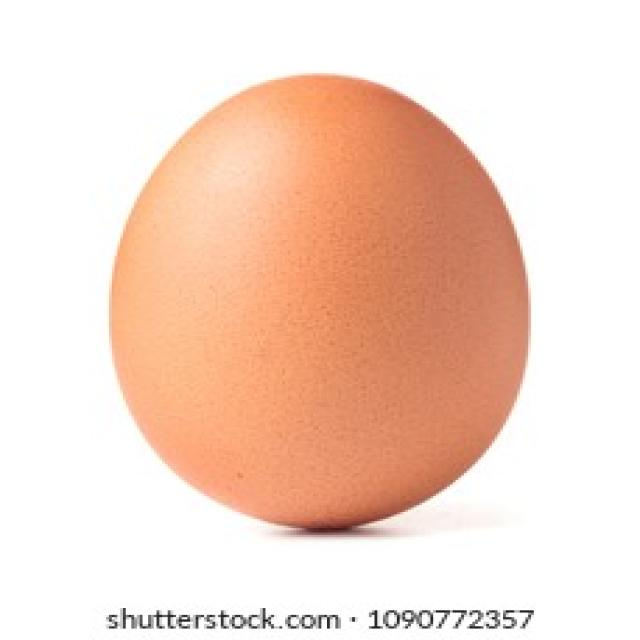Brown Egg: (108, 69, 524, 541)
